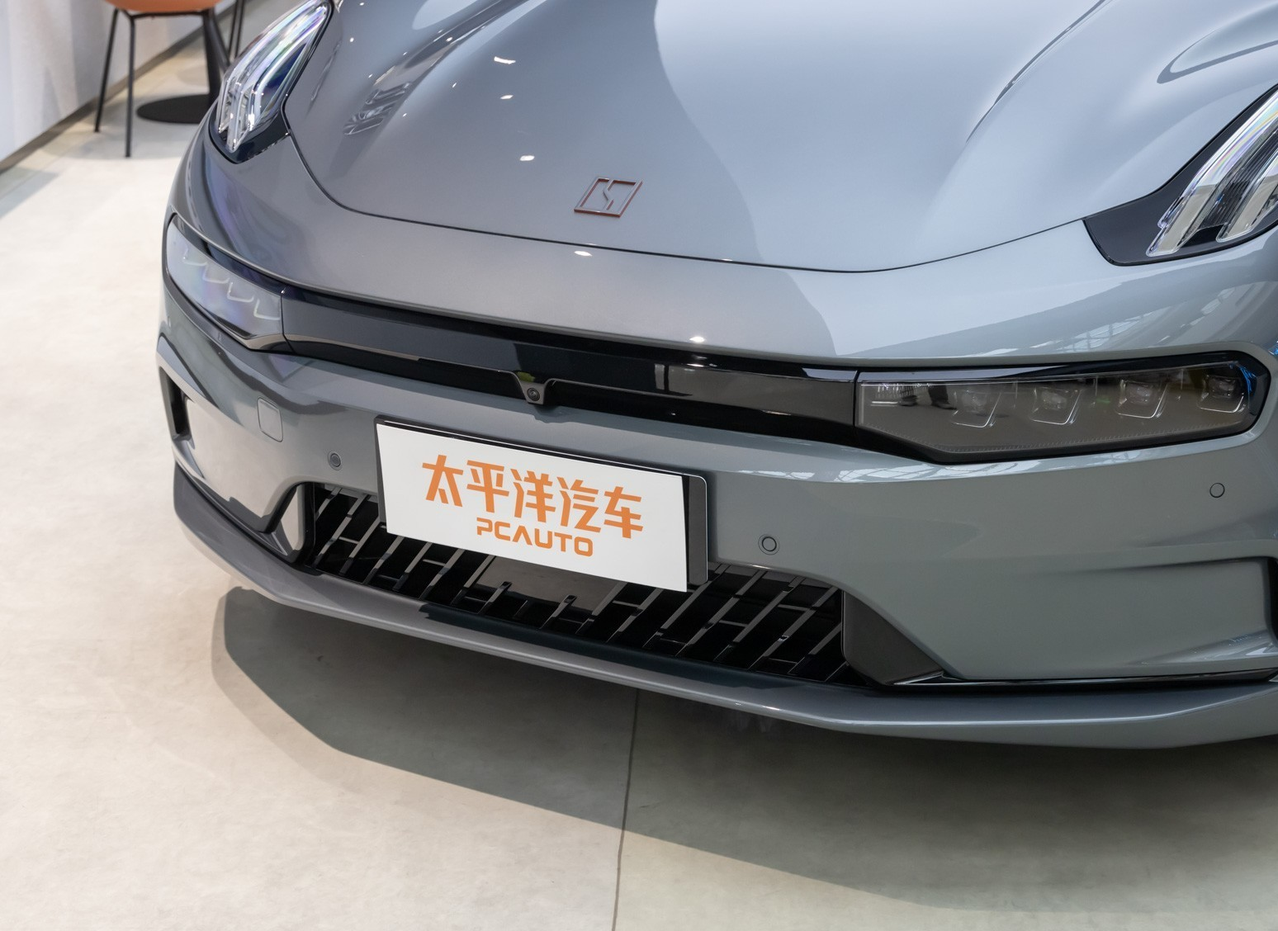ZEEKR: (575, 176, 641, 216)
